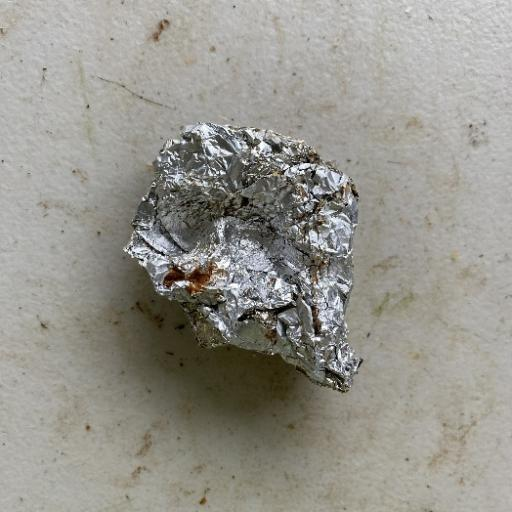Metal: (122, 120, 365, 394)
